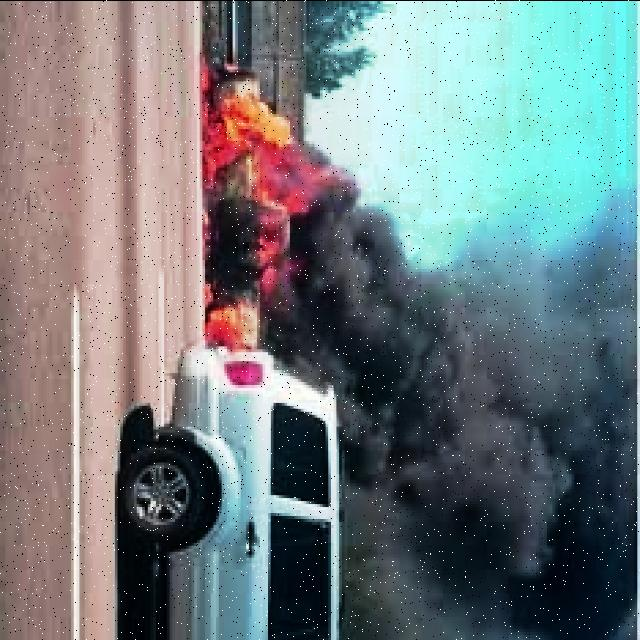api: (198, 67, 351, 350)
